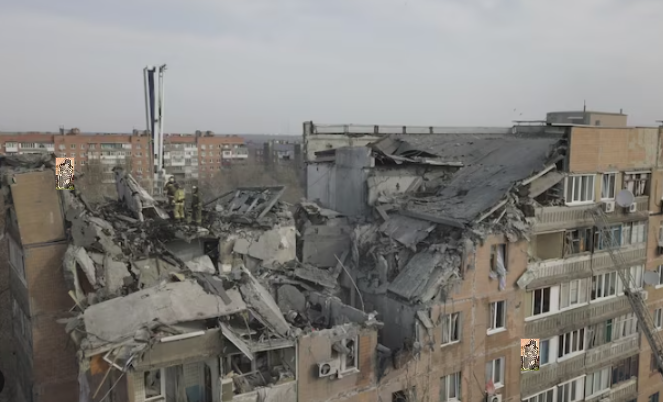HVT1: (59, 159, 73, 189), (525, 340, 538, 370)
